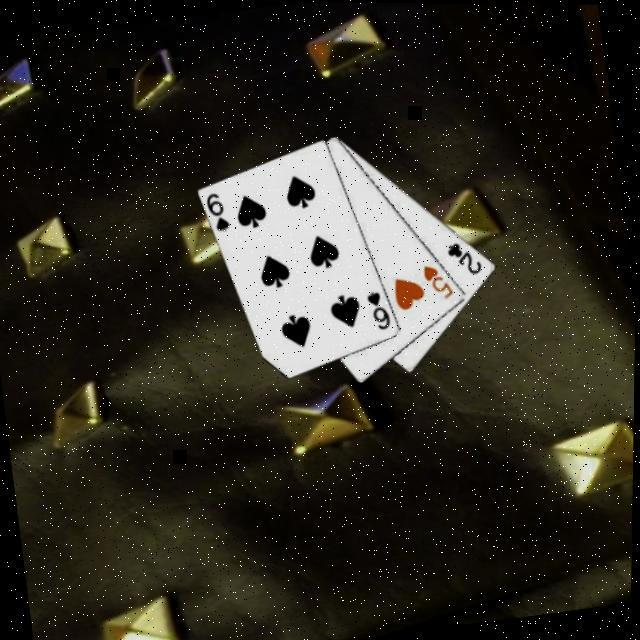2C: (442, 238, 485, 282)
5H: (417, 260, 457, 306)
6S: (200, 192, 233, 238), (362, 288, 394, 335)
